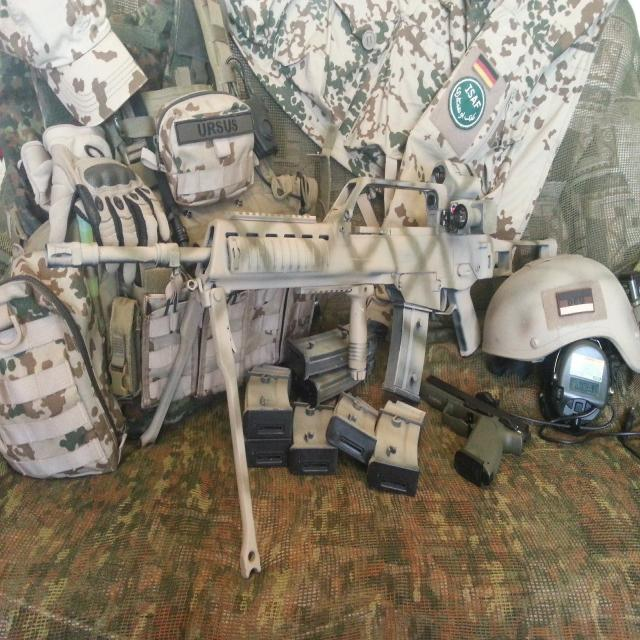firearm: (45, 176, 559, 396)
pistol: (419, 374, 531, 490)
